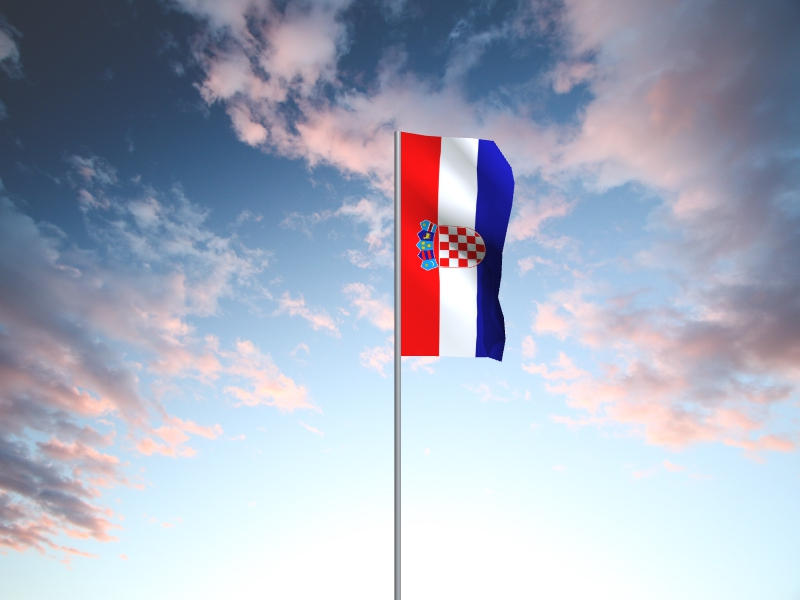hr: (402, 133, 516, 363)
